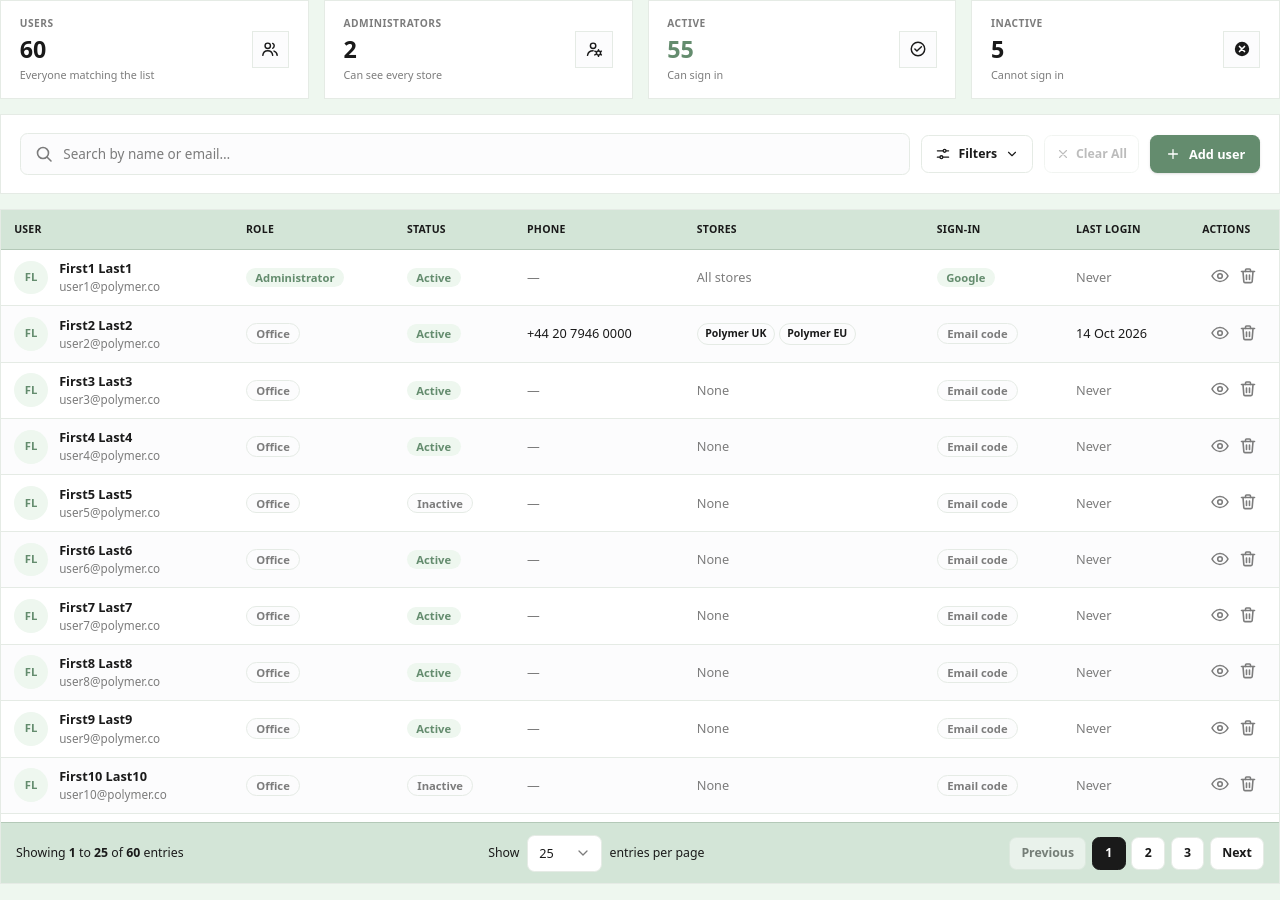
Test case: UsersPage › list › filters by role (names from the roles API) and by status, both in the Filters grid
Expected: the text "First2 Last2" is shown, [59,316,132,334]
Expected: the button "Clear All" is disabled, [1044,135,1139,173]
Step 1. Click the button "Filters" → (977,154), box [921,135,1033,173]
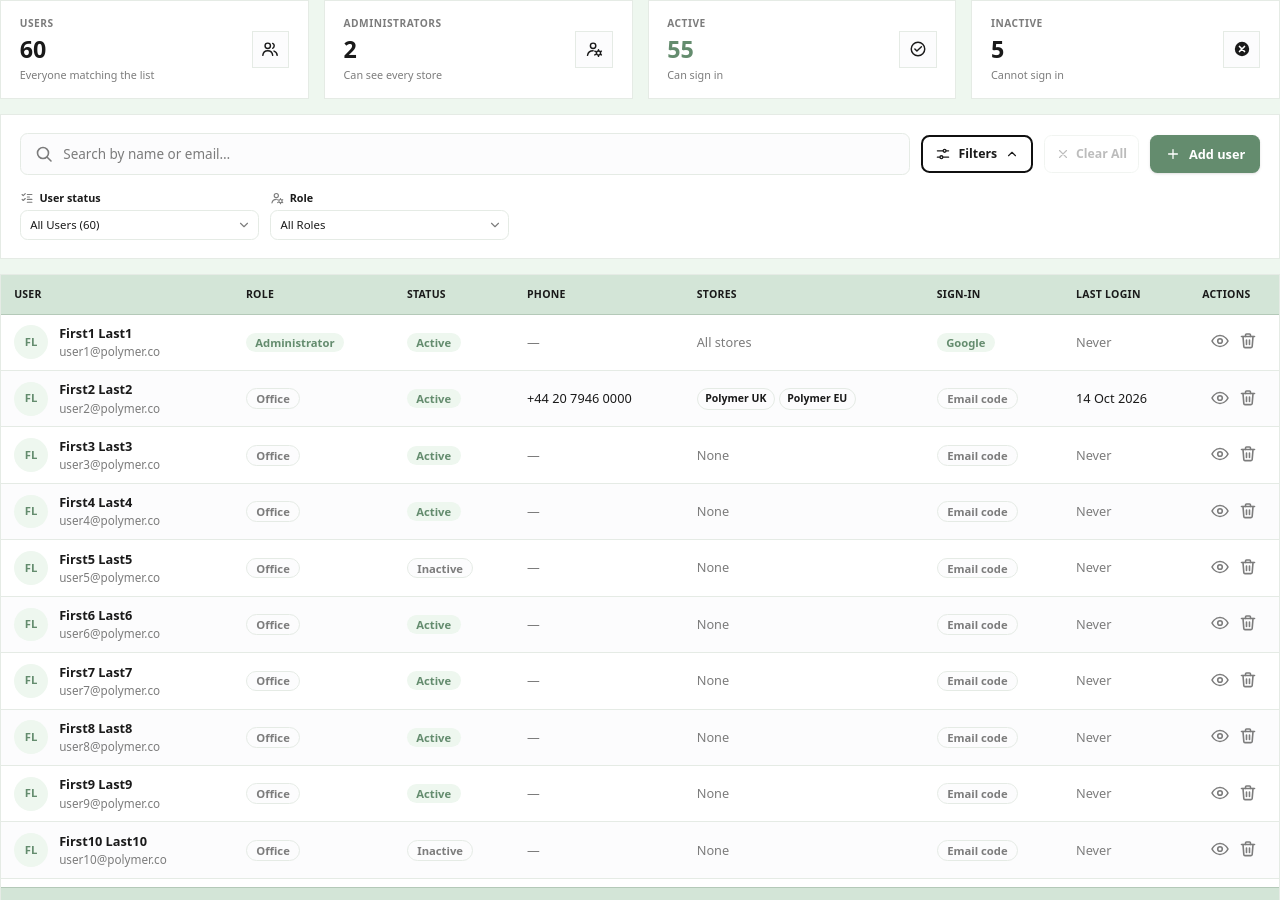
Step 2. Select "Warehouse" in the dropdown labelled "Role" → (390,225), box [270,210,509,240]
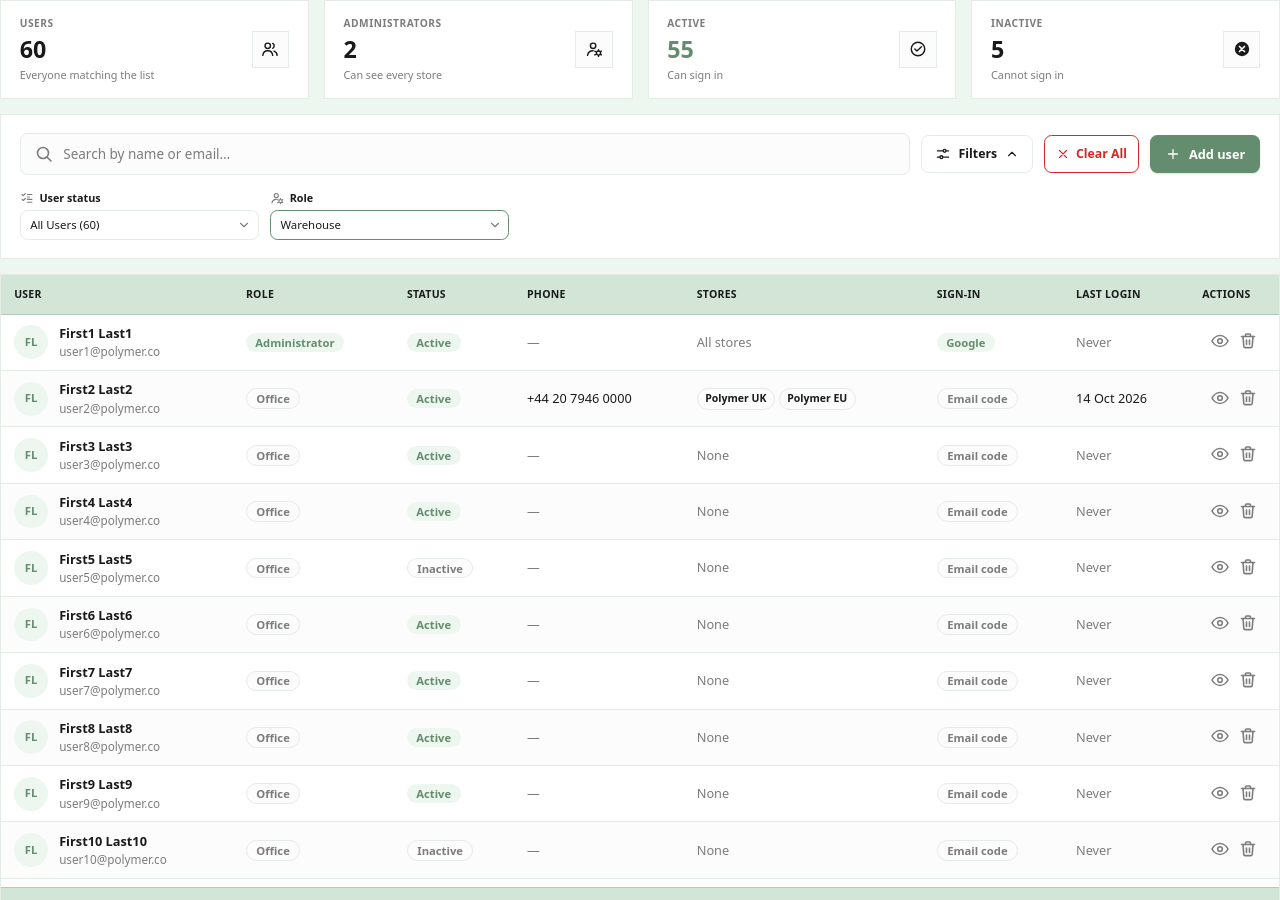
Step 3. Select "Inactive (60)" in the dropdown labelled "User status" → (139,225), box [20,210,259,240]
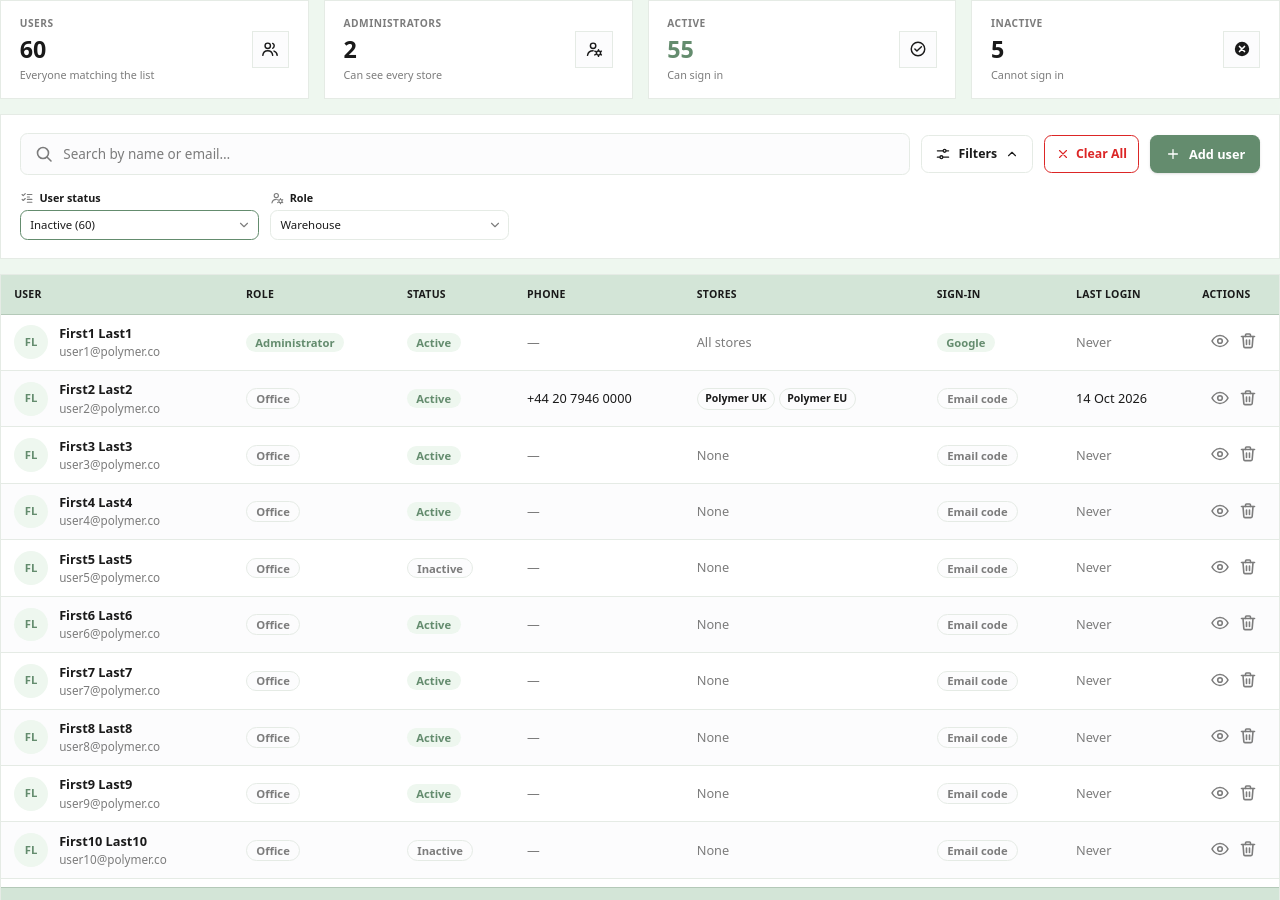
Result: the button "Clear All" is enabled
Step 4. Click the button "Clear All" → (1092,154), box [1044,135,1139,173]
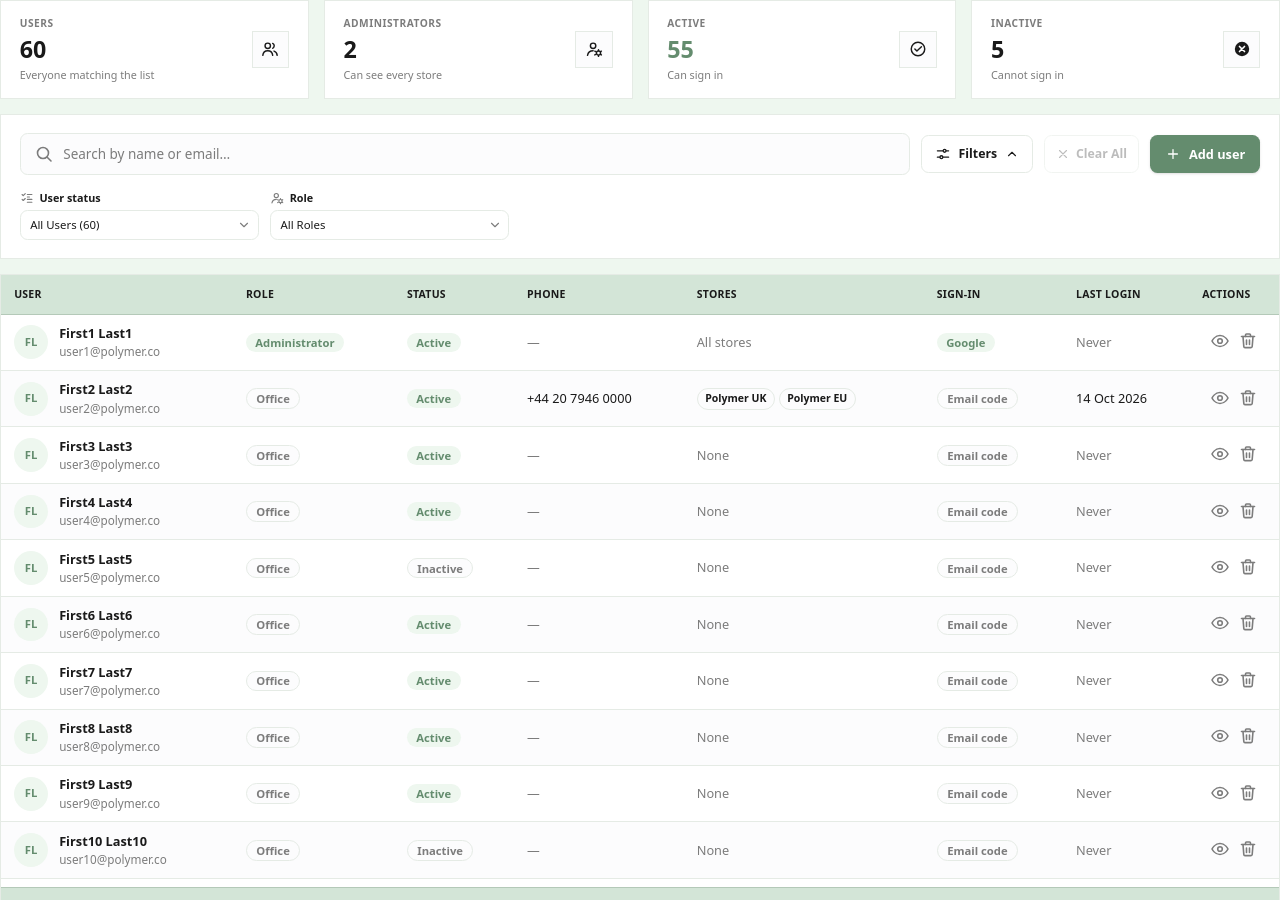
Expected: the text "First2 Last2" is shown, [59,380,132,398]
Result: the button "Clear All" is disabled at [1044,135,1139,173]
